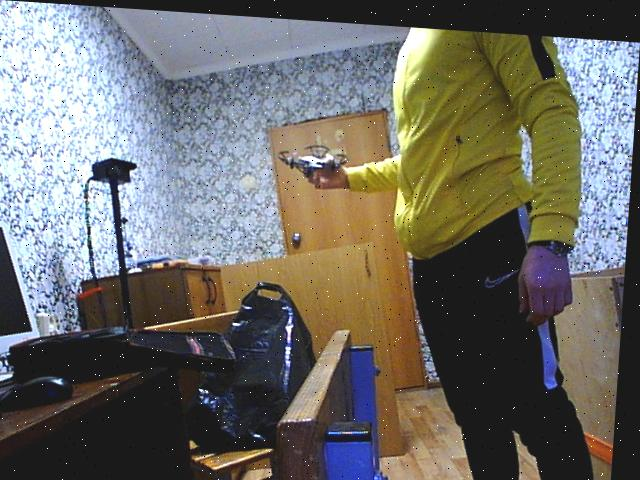drone: (274, 132, 352, 176)
